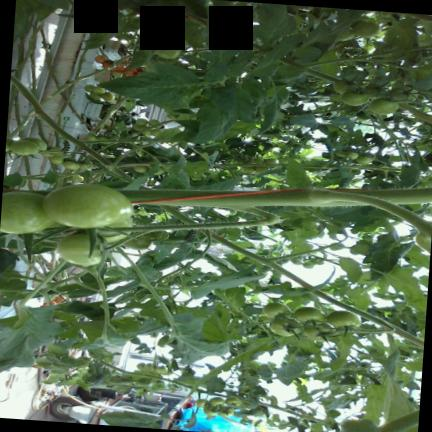6kp_peduncle: (195, 190, 288, 227), (366, 319, 408, 338)
6kp_petiole: (246, 188, 410, 218), (241, 250, 299, 274), (62, 133, 106, 156), (283, 59, 331, 80)
MainStem: (9, 74, 132, 183), (311, 290, 424, 347), (197, 230, 309, 287), (120, 187, 432, 206), (278, 56, 337, 83), (397, 103, 432, 125)
tomato: (5, 184, 132, 228), (0, 191, 54, 233), (56, 233, 100, 265), (102, 218, 131, 242), (302, 322, 335, 341), (268, 317, 301, 336), (326, 310, 360, 326), (293, 306, 325, 321), (368, 98, 398, 114), (9, 139, 38, 155), (261, 302, 289, 318), (353, 21, 380, 37), (155, 41, 180, 58), (341, 91, 368, 105), (388, 87, 416, 100), (21, 136, 47, 150), (362, 83, 384, 98), (351, 16, 374, 27), (336, 28, 354, 40), (168, 37, 185, 48), (224, 396, 241, 405), (47, 155, 63, 164), (62, 160, 78, 169), (218, 407, 234, 416), (208, 396, 224, 405), (355, 156, 372, 164), (204, 405, 217, 415), (343, 151, 358, 159), (68, 174, 83, 182), (99, 92, 114, 100), (90, 86, 104, 94), (153, 366, 167, 374), (194, 398, 206, 407), (131, 124, 146, 131), (121, 68, 136, 75), (5, 138, 13, 151), (253, 166, 267, 173), (94, 55, 106, 63), (134, 118, 147, 125), (263, 158, 278, 164), (79, 163, 93, 169), (133, 165, 145, 172), (111, 70, 123, 77), (242, 166, 254, 173), (153, 166, 163, 174), (148, 119, 159, 126), (89, 92, 100, 99), (84, 134, 96, 140), (84, 84, 93, 92), (149, 128, 159, 135), (302, 262, 313, 268), (40, 151, 53, 156), (136, 362, 144, 370), (334, 150, 344, 156), (166, 113, 176, 119), (291, 259, 302, 264), (252, 158, 263, 163), (101, 61, 110, 67), (114, 65, 124, 70), (95, 136, 106, 140), (135, 67, 143, 71), (237, 160, 245, 164)
